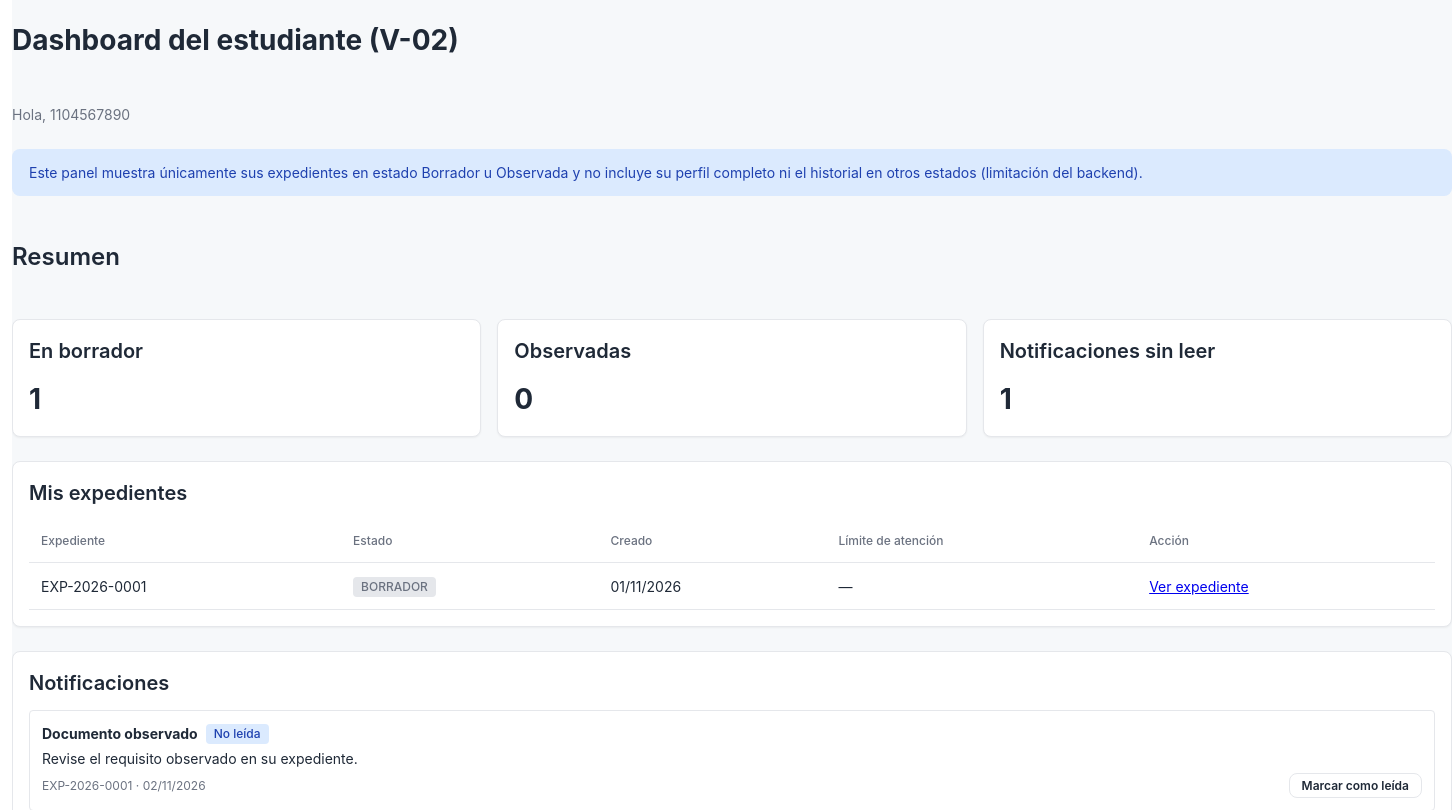
StudentDashboardPage (V-02) › CA-V02-03: muestra el contador de no leídas y permite marcarlas como leídas
Expected: the text "No leída" is shown, [206,724,269,744]
Expected: the text "1" below "Notificaciones sin leer" is shown, [1000,382,1012,416]
Click the button "Marcar como leída": (1355, 786) [1289,773,1422,798]
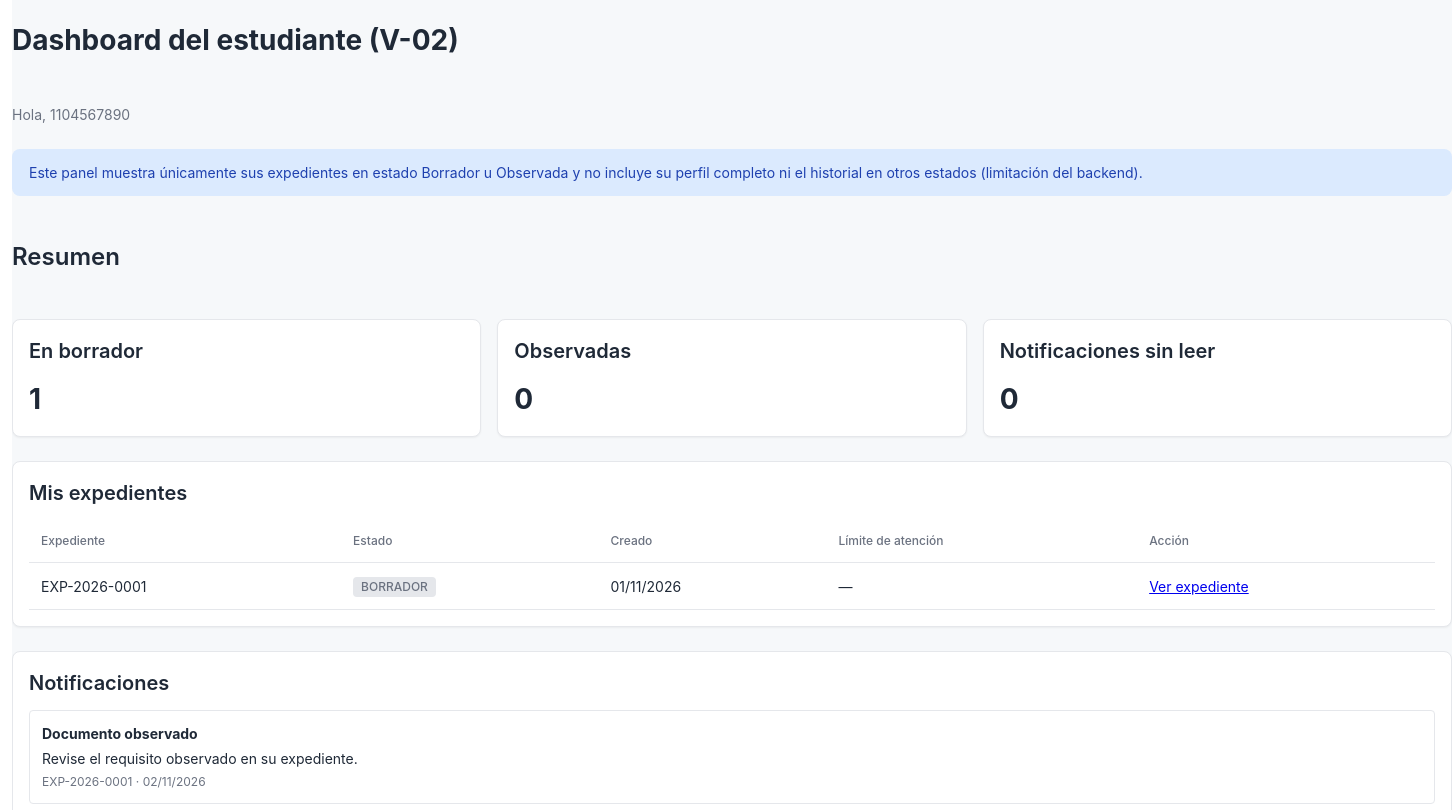
Expected: the text "0" below "Notificaciones sin leer" is shown, [1000,382,1019,416]
Expected: the text "No leída" is gone
